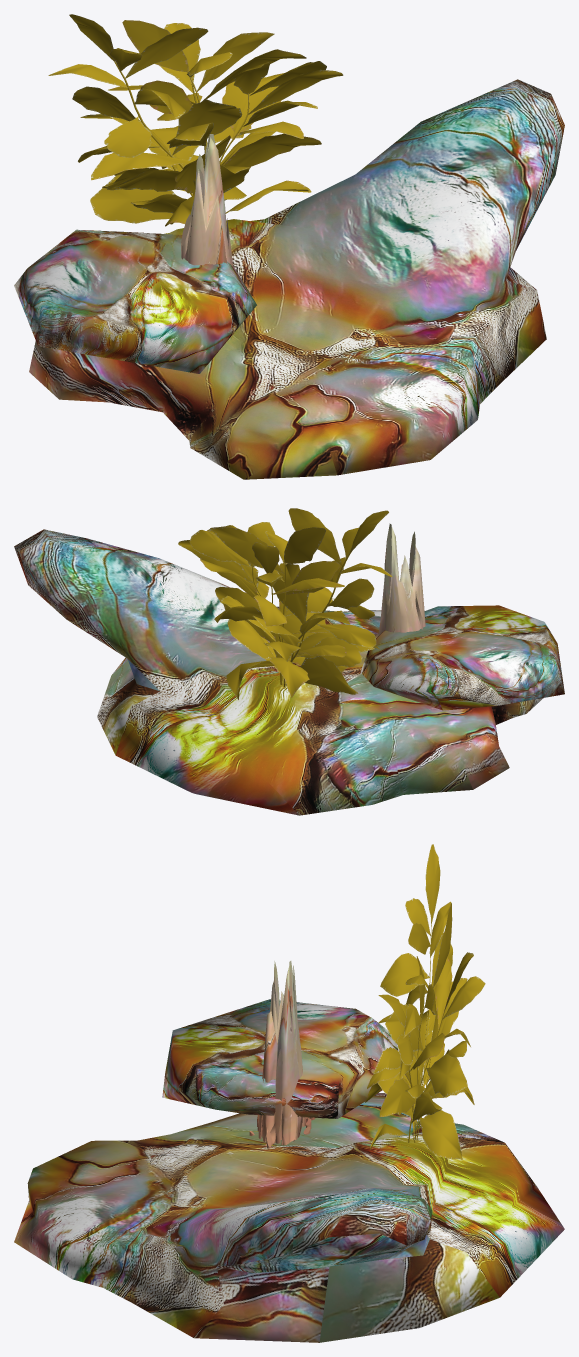
3 views of the same model, one above another, from view 1: azimuth 30°, elevation 25°; view 2: azimuth 150°, elevation 25°; view 3: azimuth 270°, elevation 25° (orthographic). The views are drawn at different scales.
Visible parts, largest first — view 1: MSH_Base06B_Main, MSH_Base06BAux; view 2: MSH_Base06B_Main, MSH_Base06BAux; view 3: MSH_Base06B_Main, MSH_Base06BAux.
Boxes of the visible parts, x1=… form: MSH_Base06B_Main: x1=14, y1=79, x2=564, y2=479; MSH_Base06BAux: x1=48, y1=14, x2=343, y2=266; MSH_Base06B_Main: x1=14, y1=529, x2=564, y2=815; MSH_Base06BAux: x1=178, y1=508, x2=425, y2=699; MSH_Base06B_Main: x1=14, y1=999, x2=564, y2=1342; MSH_Base06BAux: x1=249, y1=844, x2=485, y2=1160.
Bounding box in the file's own units: 2554 × 1403 × 2150.
